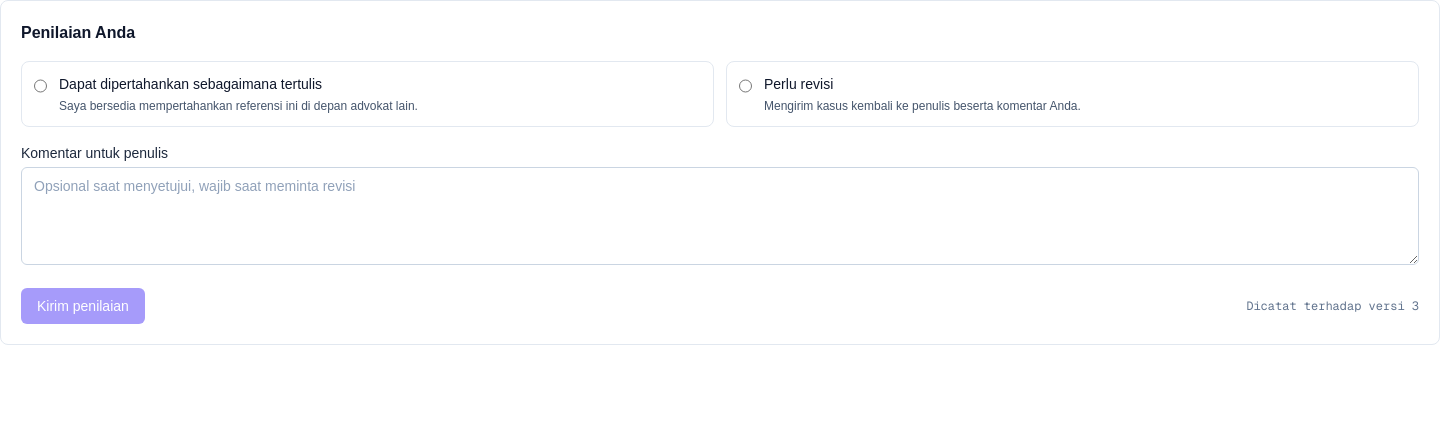
it: VerdictForm › shows the server's message and keeps what was typed when sending fails
Click the radio button labelled "Perlu revisi" at (746, 86), box [739,78,752,94]
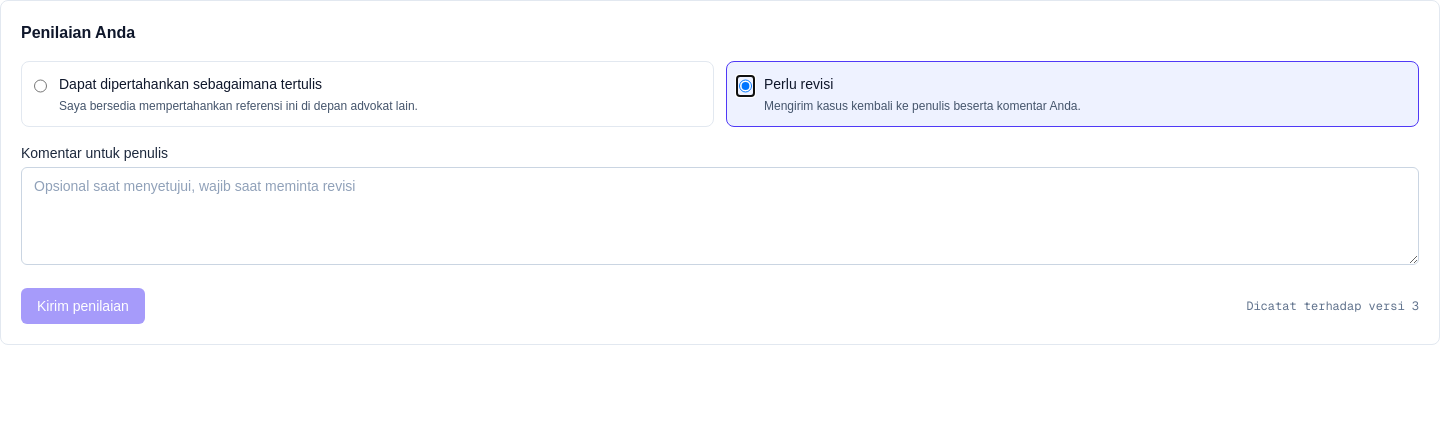
Type "Pasal salah" into the text box labelled "Komentar untuk penulis" at (720, 216), box [21,167,1419,265]
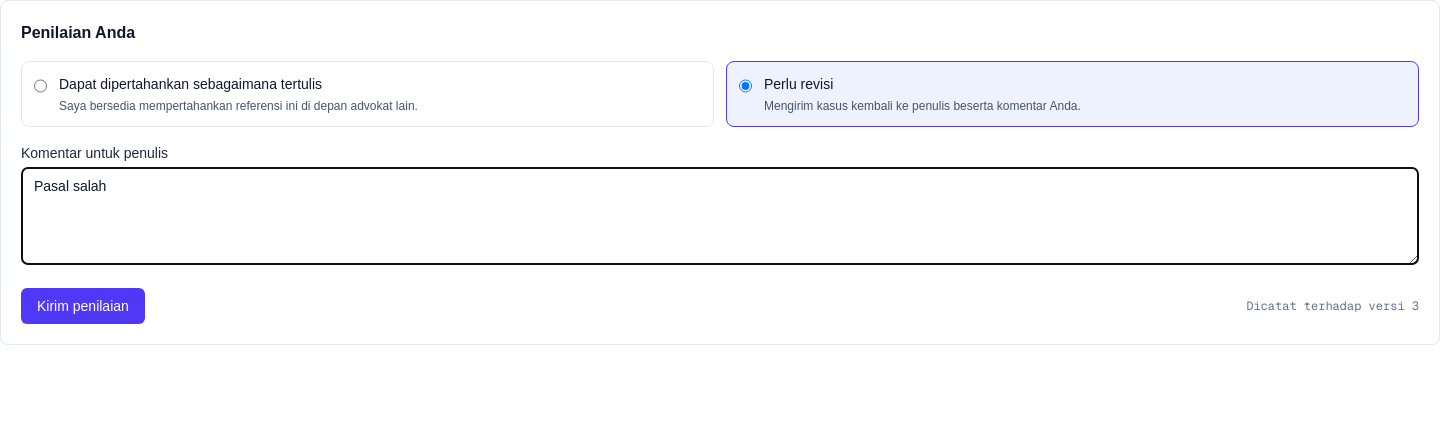
Click the button "Kirim penilaian" at (83, 306), box [21,288,145,324]
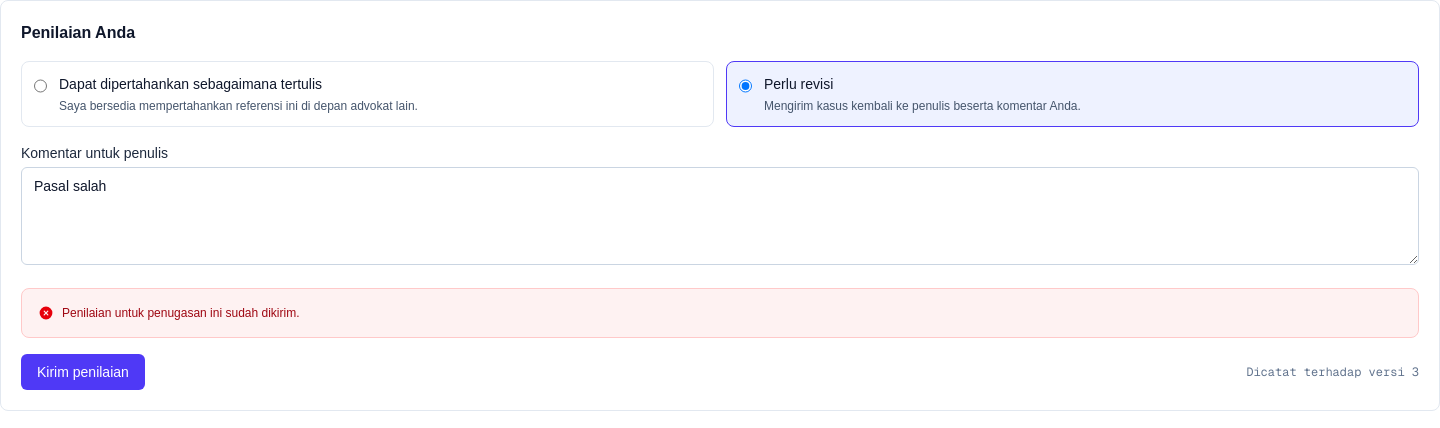
Now the radio button labelled "Perlu revisi" is checked, box [739,78,752,94]
Now the button "Kirim penilaian" is enabled, box [21,354,145,390]
Now the message reads "Penilaian untuk penugasan ini sudah dikirim.", box [62,306,300,320]
